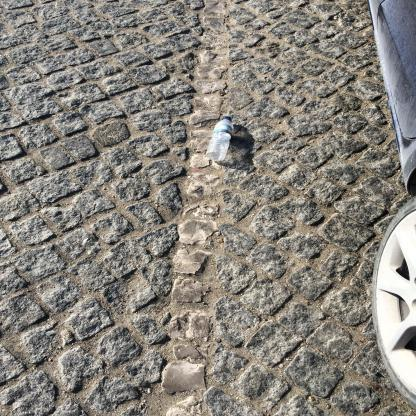plastik: (207, 117, 235, 162)
